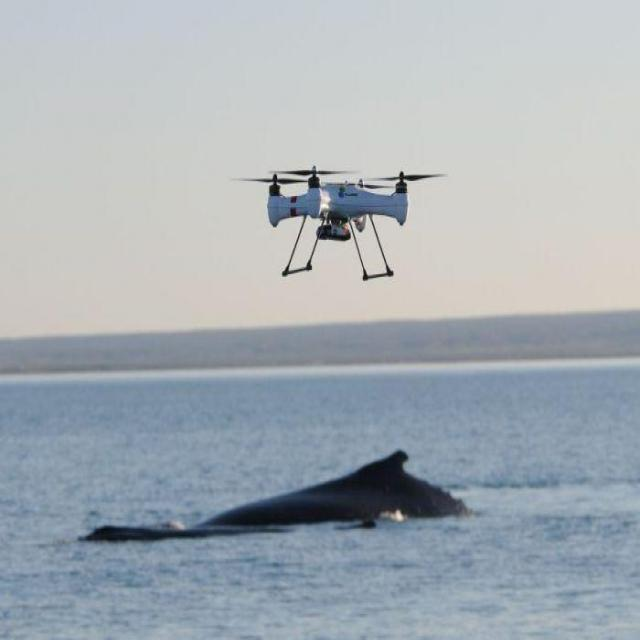UAV: (265, 162, 414, 285)
